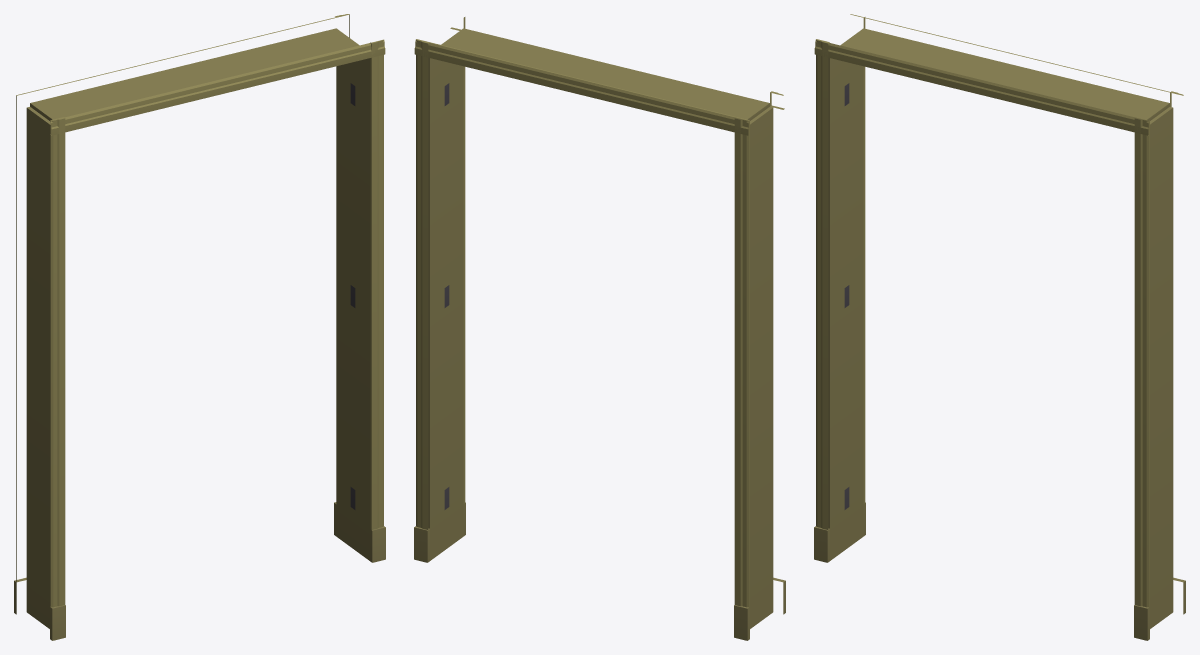
Rendered from door_frame_mid.glb.
3 views of the same model, side by side, from view 1: azimuth 30°, elevation 25°; view 2: azimuth 150°, elevation 25°; view 3: azimuth 330°, elevation 25° (orthographic).
Parts seen in each view (by area): view 1: door_frame_mid; view 2: door_frame_mid; view 3: door_frame_mid.
Part boxes in pixels (bbox=[...]): door_frame_mid: bbox=[14, 14, 385, 640]; door_frame_mid: bbox=[414, 17, 785, 640]; door_frame_mid: bbox=[814, 14, 1185, 640].
Size of the model in its own units: 1.73 by 2.57 by 0.344.
